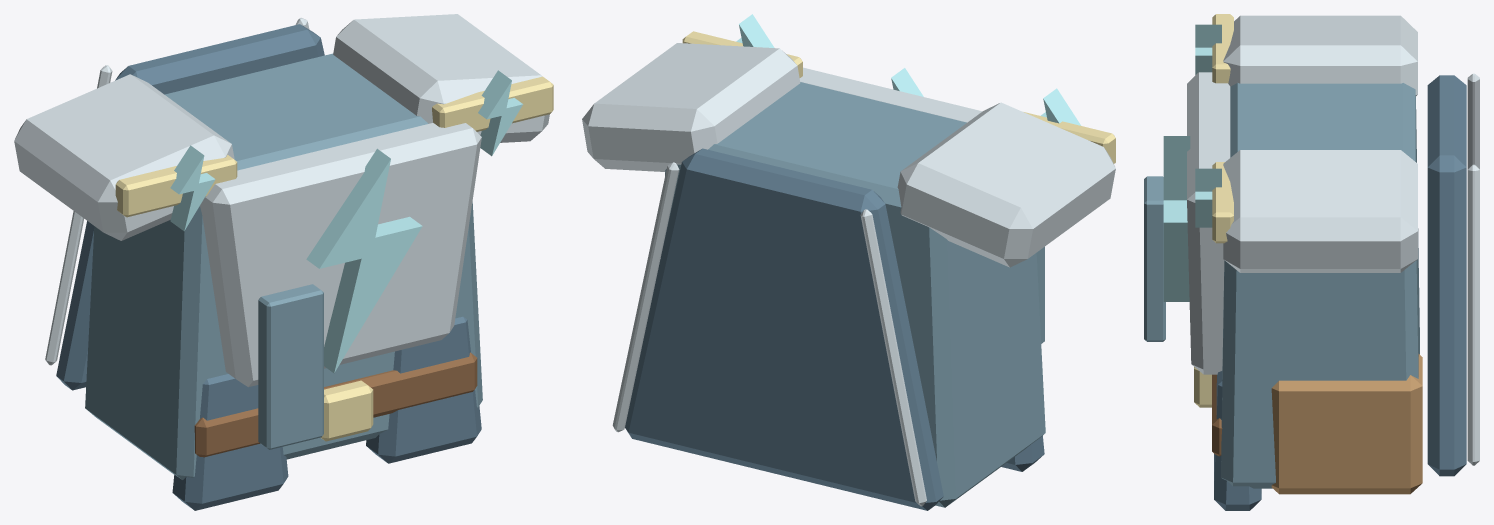
File: Storm_Peasant_Torso.fbx
The picture shows the model from 3 angles, left to right: view 1: azimuth 30°, elevation 25°; view 2: azimuth 150°, elevation 25°; view 3: azimuth 270°, elevation 25°; orthographic projection. The views are drawn at different scales.
Visible parts, largest first — view 1: Storm_Peasant_Torso; view 2: Storm_Peasant_Torso; view 3: Storm_Peasant_Torso.
Part boxes in pixels (bbox=[...]): Storm_Peasant_Torso: bbox=[14, 14, 553, 510]; Storm_Peasant_Torso: bbox=[582, 14, 1115, 510]; Storm_Peasant_Torso: bbox=[1144, 14, 1479, 510].
Bounding box in the file's own units: 104 × 80.16 × 69.
